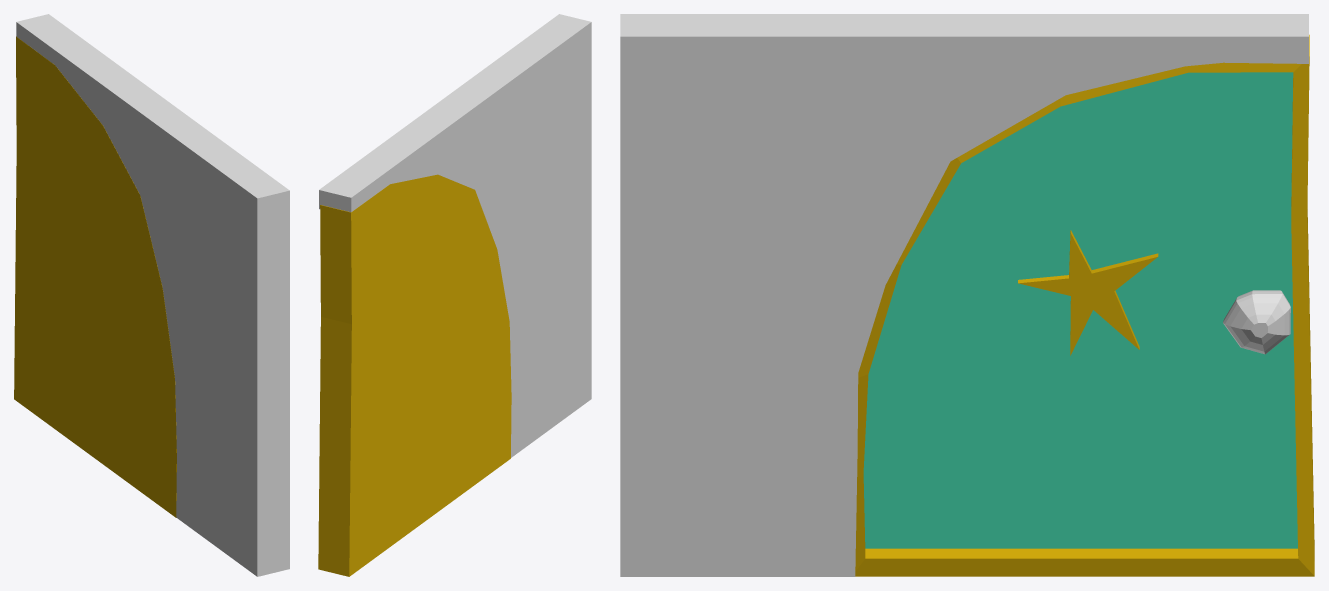
The model's file is BigDoor.fbx.
The picture shows the model from 3 angles, left to right: view 1: azimuth 30°, elevation 25°; view 2: azimuth 150°, elevation 25°; view 3: azimuth 270°, elevation 25°; orthographic projection. The views are drawn at different scales.
Parts seen in each view (by area): view 1: Plane.001, Plane; view 2: Plane, Plane.001; view 3: Plane, Plane.001.
Boxes of the visible parts, left/top/right/bottom form: Plane.001: left=16, top=14, right=289, bottom=576; Plane: left=14, top=36, right=176, bottom=517; Plane: left=318, top=174, right=511, bottom=576; Plane.001: left=319, top=14, right=591, bottom=457; Plane: left=855, top=34, right=1314, bottom=576; Plane.001: left=620, top=14, right=1308, bottom=576.
Size of the model in its own units: 24.37 by 200 by 233.
